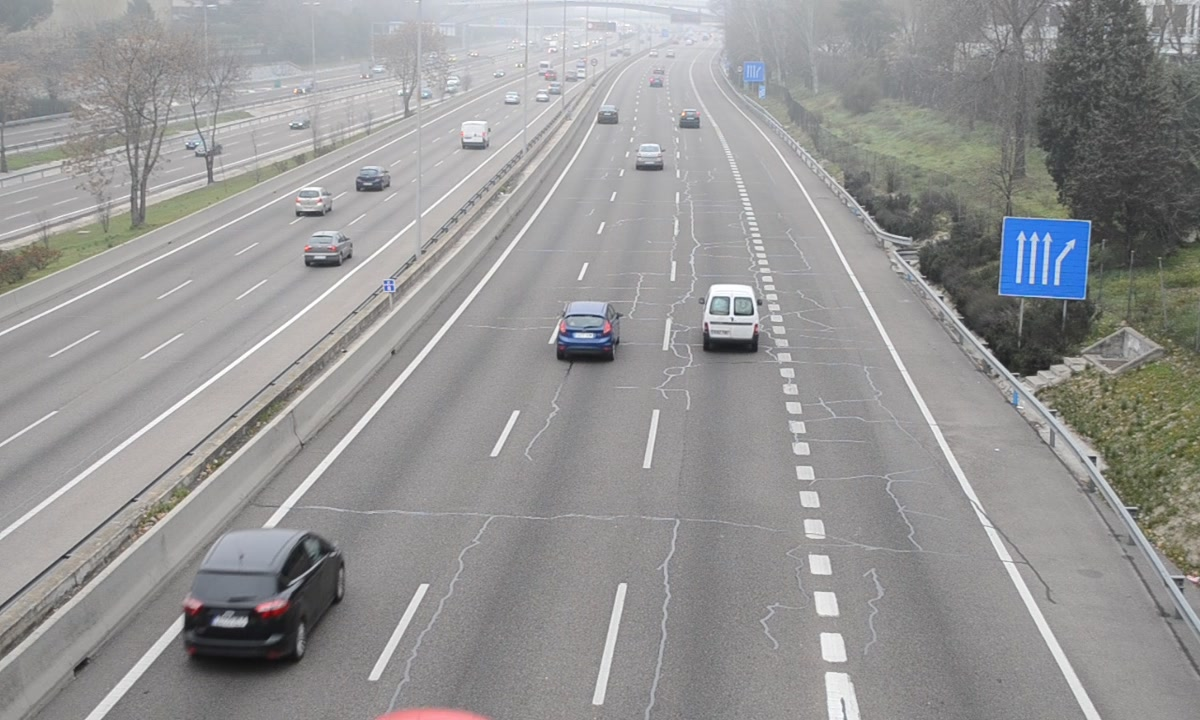car: (181, 530, 342, 661), (559, 303, 615, 359), (635, 144, 665, 170), (597, 103, 620, 126), (678, 108, 701, 130)
van: (704, 285, 760, 349)
